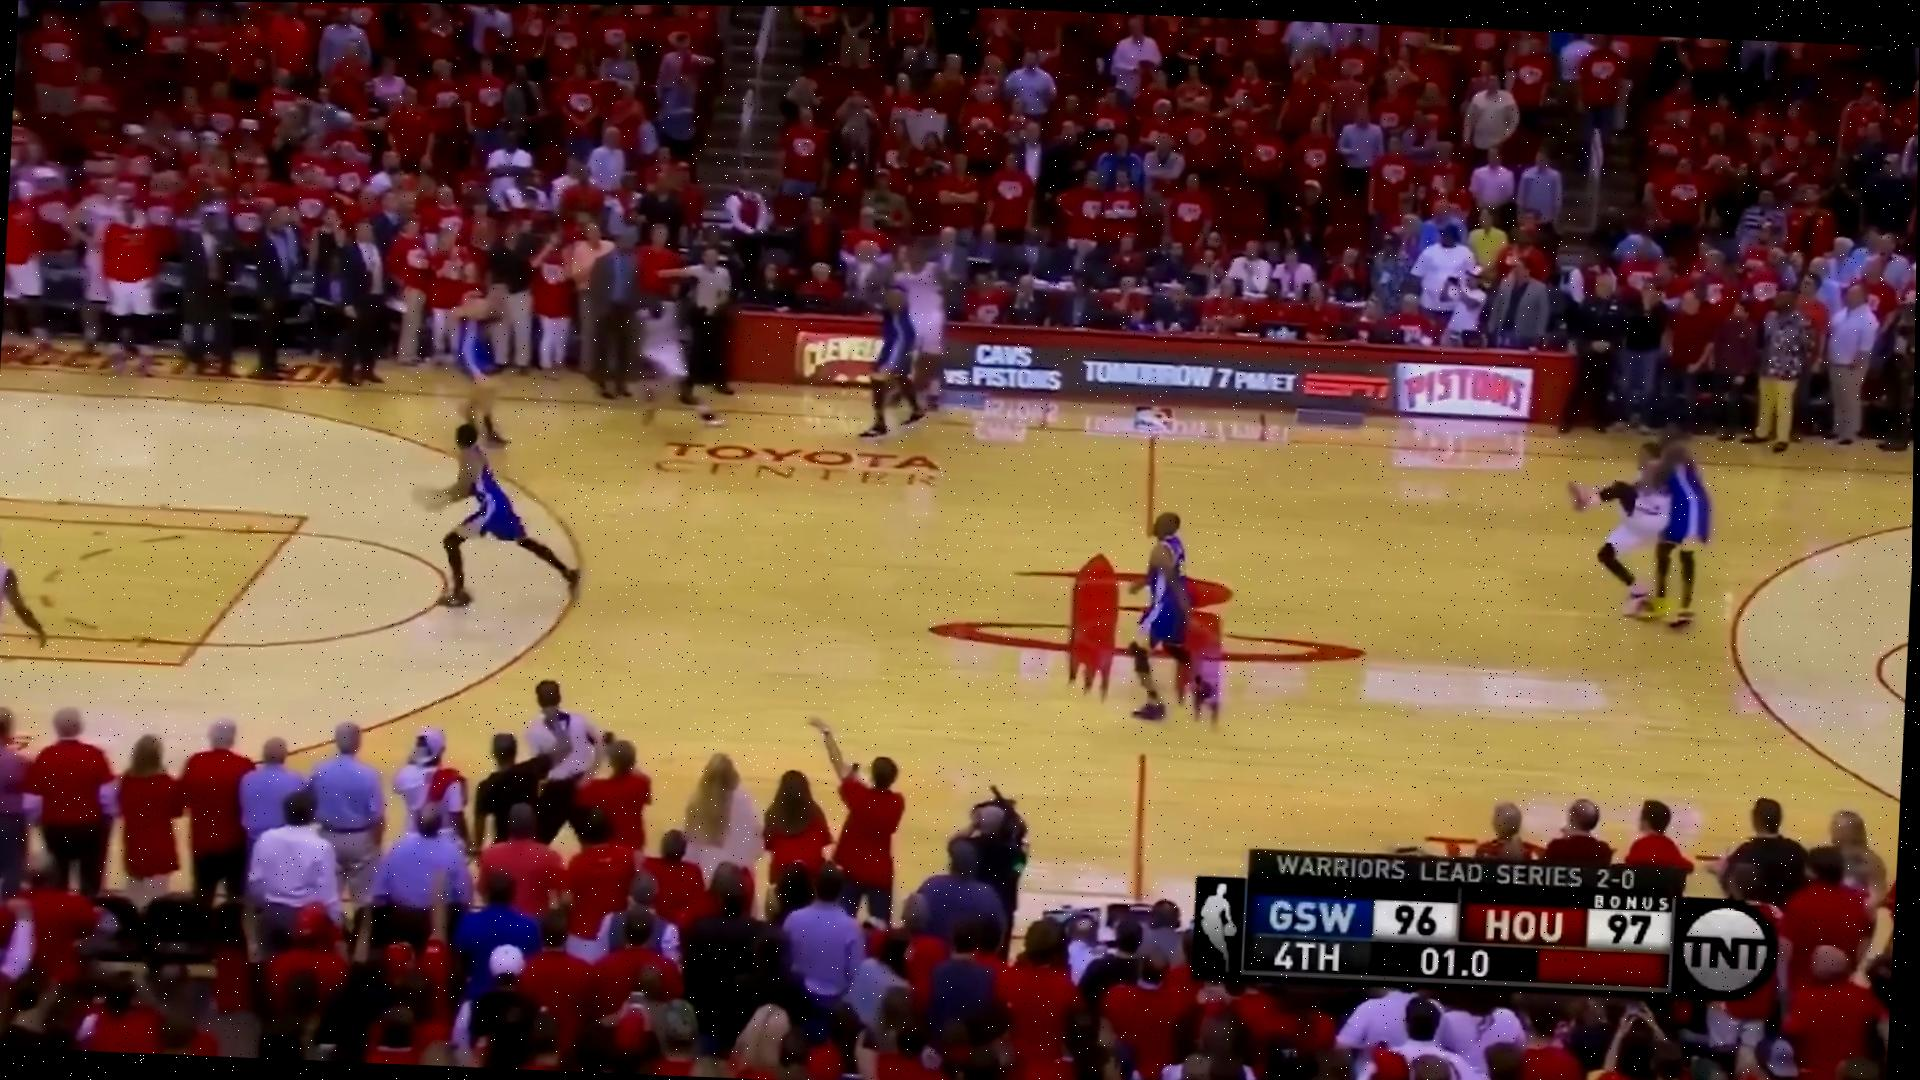foul: (1568, 409, 1731, 628)
